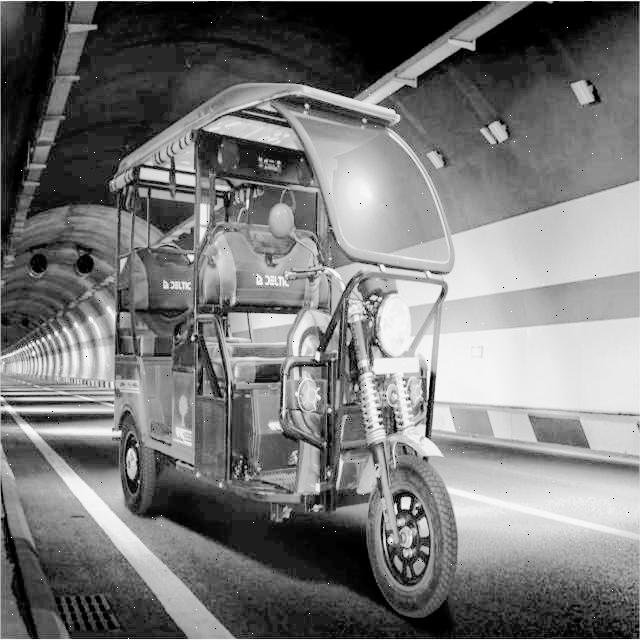Toto: (110, 78, 463, 618)
